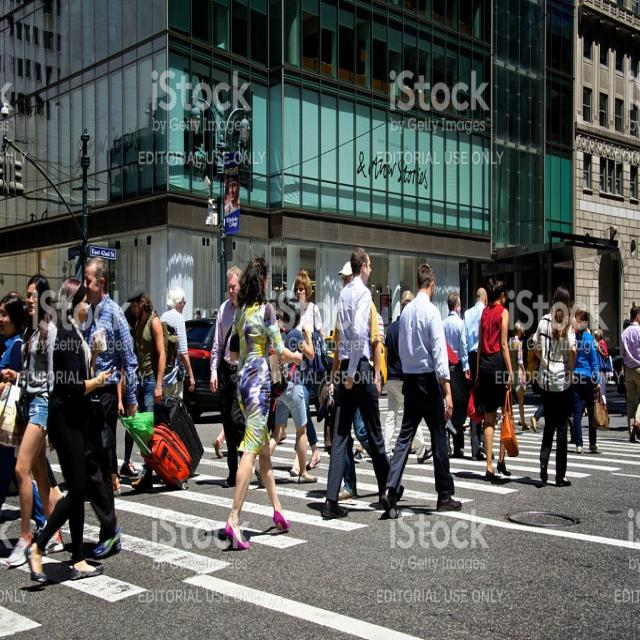body: (117, 394, 640, 493), (23, 274, 112, 585), (222, 250, 306, 554), (320, 242, 406, 521), (379, 260, 464, 521), (202, 494, 442, 575), (78, 256, 140, 558), (5, 271, 65, 569), (0, 452, 118, 600), (325, 259, 383, 502), (0, 291, 51, 557), (252, 293, 320, 491), (123, 280, 179, 494), (474, 273, 520, 484), (530, 283, 574, 487), (384, 288, 434, 467), (209, 264, 247, 490), (290, 268, 326, 477), (78, 295, 114, 499), (125, 289, 161, 480), (462, 285, 496, 463), (570, 309, 610, 454), (350, 307, 386, 463), (160, 285, 197, 402), (439, 291, 464, 460), (619, 305, 640, 444), (506, 320, 531, 433), (258, 313, 290, 395), (619, 317, 633, 417), (593, 328, 611, 396), (219, 174, 240, 218), (190, 304, 223, 318)
